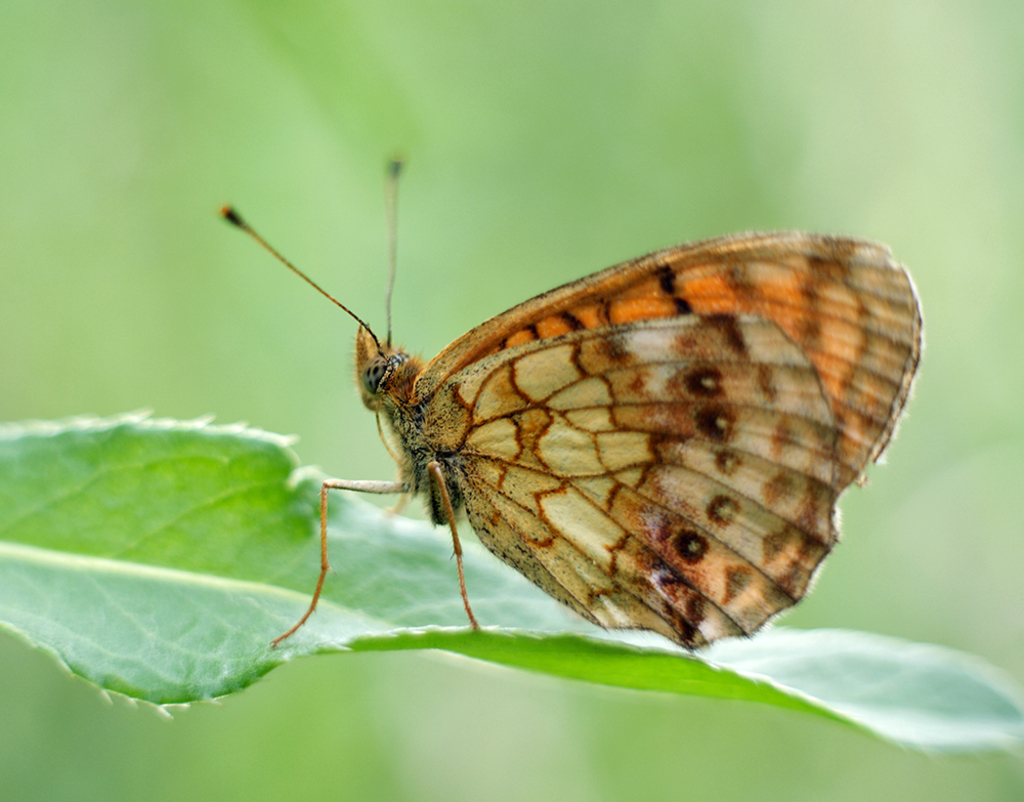Butterfly: (244, 175, 940, 687)
